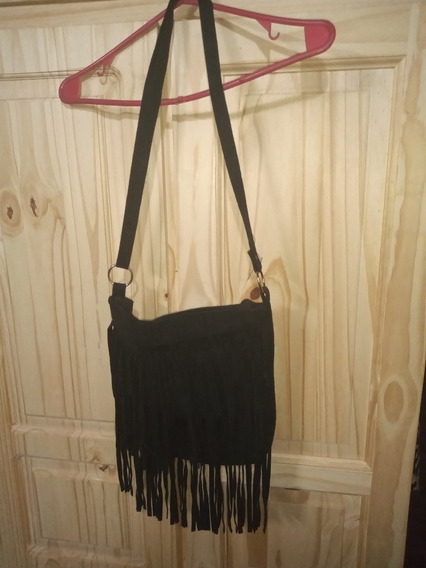cartera: (103, 2, 281, 536)
